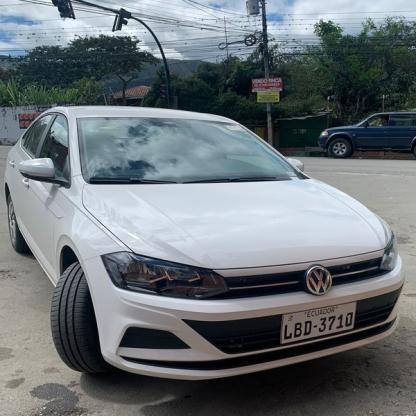Placa: (278, 302, 368, 344)
